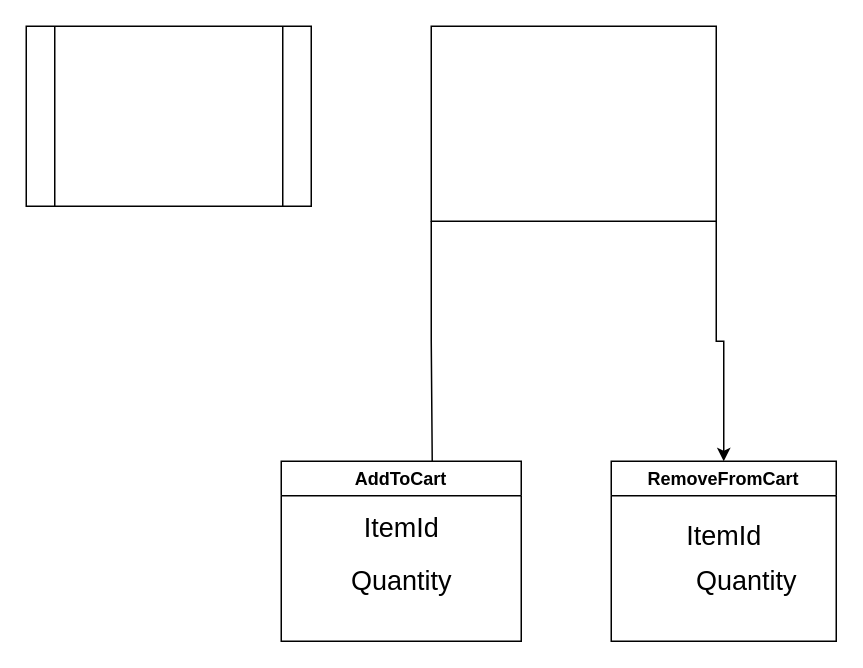
The diagram is 863 pixels wide and 668 high, and some of its shapes have lost their labels. Each missing label, with the box of its shape:
[{ProductId , ProductQuantity}]: (430, 25, 716, 221)
ProductName ProductId ProductPrice ProductLocation: (25, 25, 311, 206)
